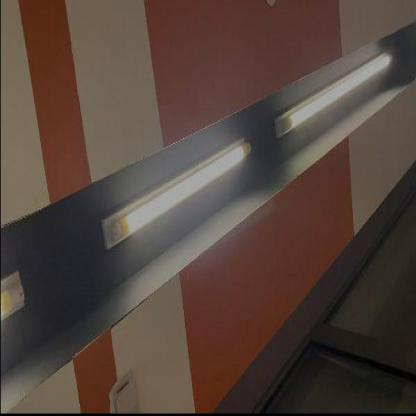light_on: (99, 129, 250, 256), (268, 42, 390, 150), (1, 260, 35, 335)
